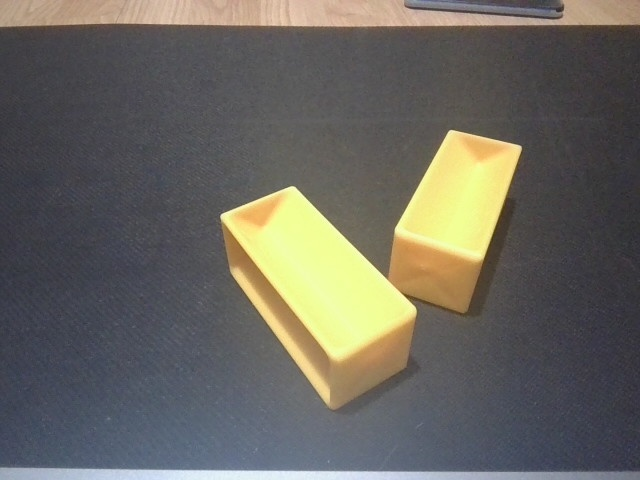YellowSample: (215, 182, 421, 416), (386, 126, 527, 321)
